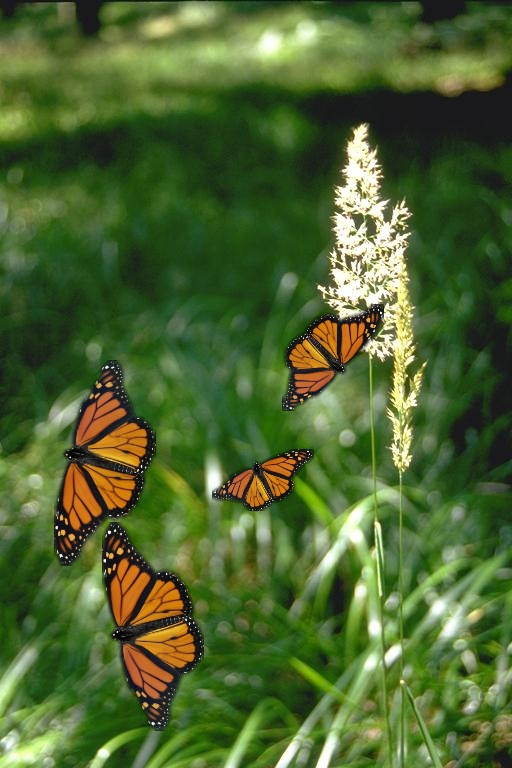danaus_plexippus: (102, 522, 204, 731), (54, 360, 156, 566), (282, 304, 384, 411), (212, 449, 314, 511)
